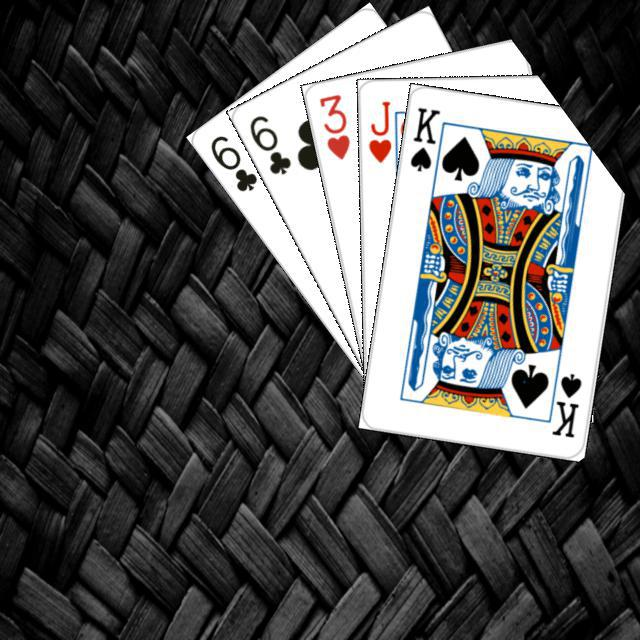3h: (314, 89, 352, 162)
6c: (205, 130, 259, 194), (244, 110, 293, 176)
Jh: (364, 96, 393, 165)
Ks: (543, 361, 584, 439), (405, 102, 442, 173)
